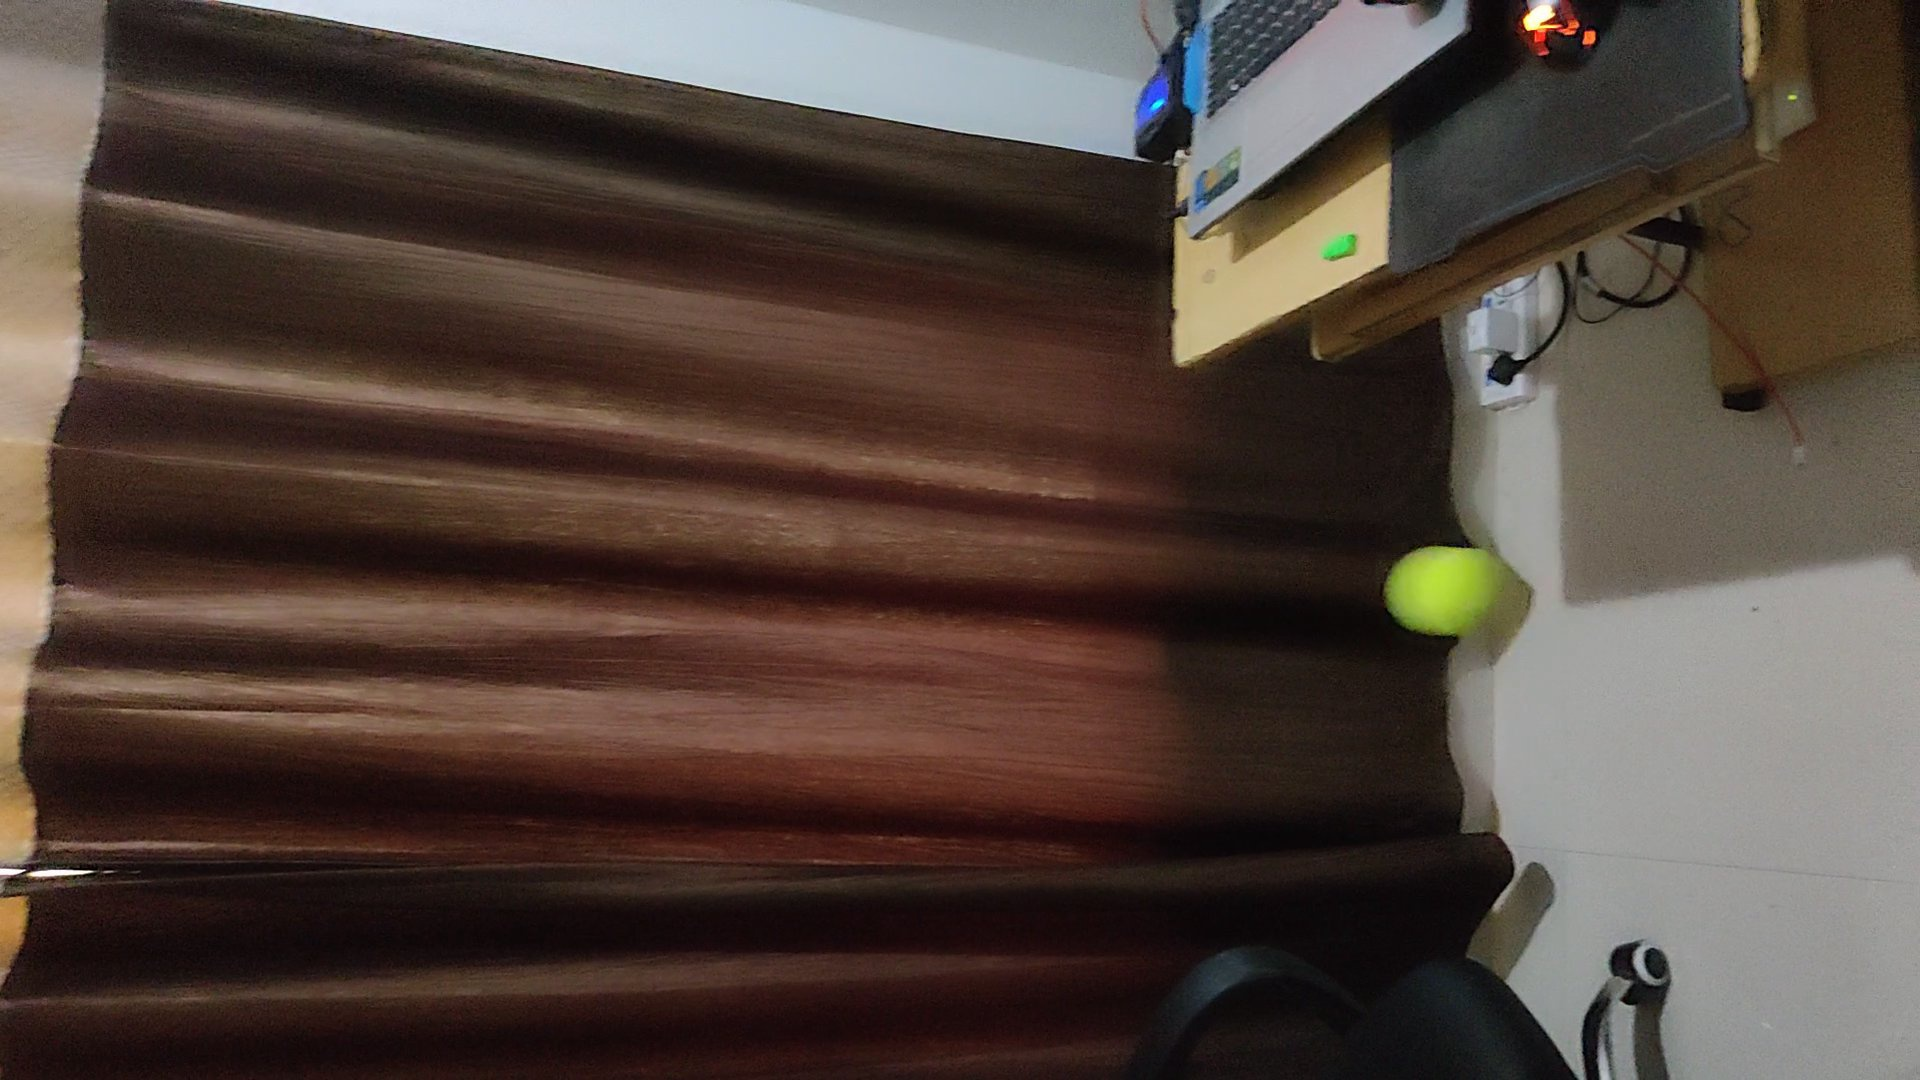Tennis-Ball: (1382, 545, 1506, 636)
